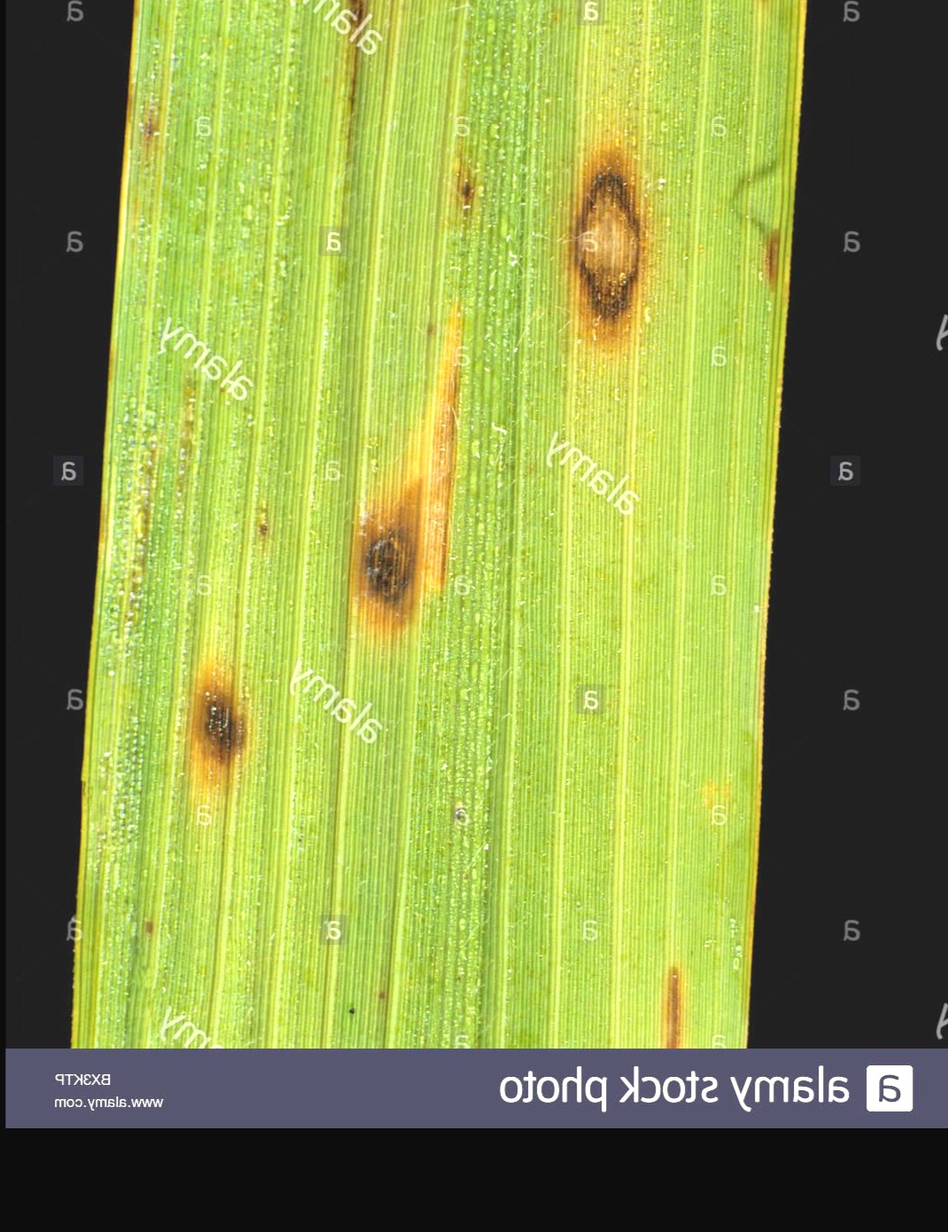Bacterial_Leaf_Blight: (332, 394, 490, 638), (535, 130, 665, 361), (176, 648, 261, 819), (631, 946, 705, 1054), (741, 220, 792, 306), (452, 141, 486, 222)
